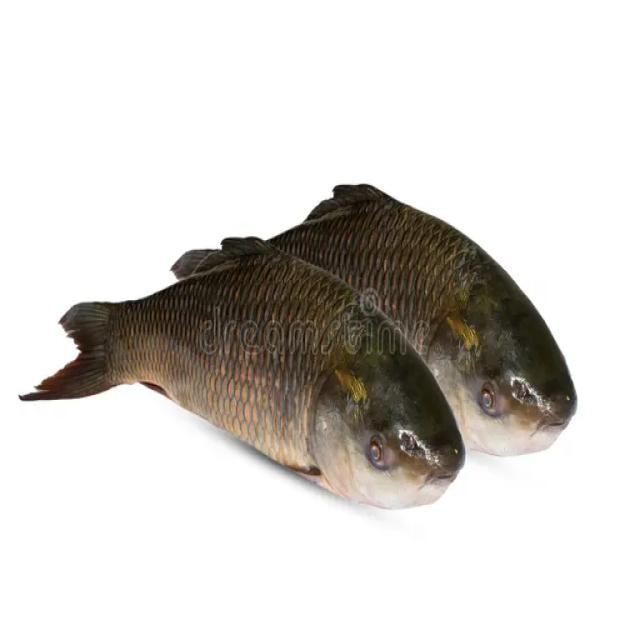Rohu: (27, 235, 465, 513)
